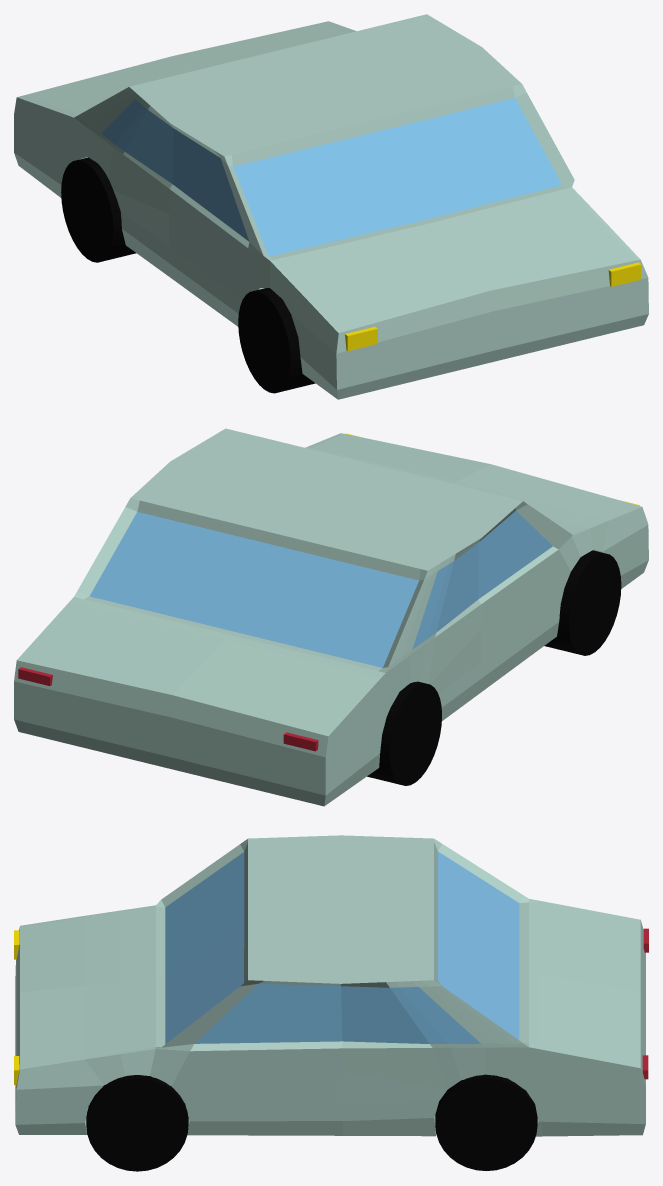
The model's file is CarNPC03.fbx.
The picture shows the model from 3 angles, top to bottom: view 1: azimuth 30°, elevation 25°; view 2: azimuth 150°, elevation 25°; view 3: azimuth 270°, elevation 25°; orthographic projection. The views are drawn at different scales.
Visible parts, largest first — view 1: Cube.002; view 2: Cube.002; view 3: Cube.002.
Part boxes in pixels (x1,y1,x2,y2): Cube.002: [14, 14, 648, 399]; Cube.002: [14, 428, 648, 806]; Cube.002: [14, 835, 648, 1171].
Size of the model in its own units: 226 by 123 by 386.
